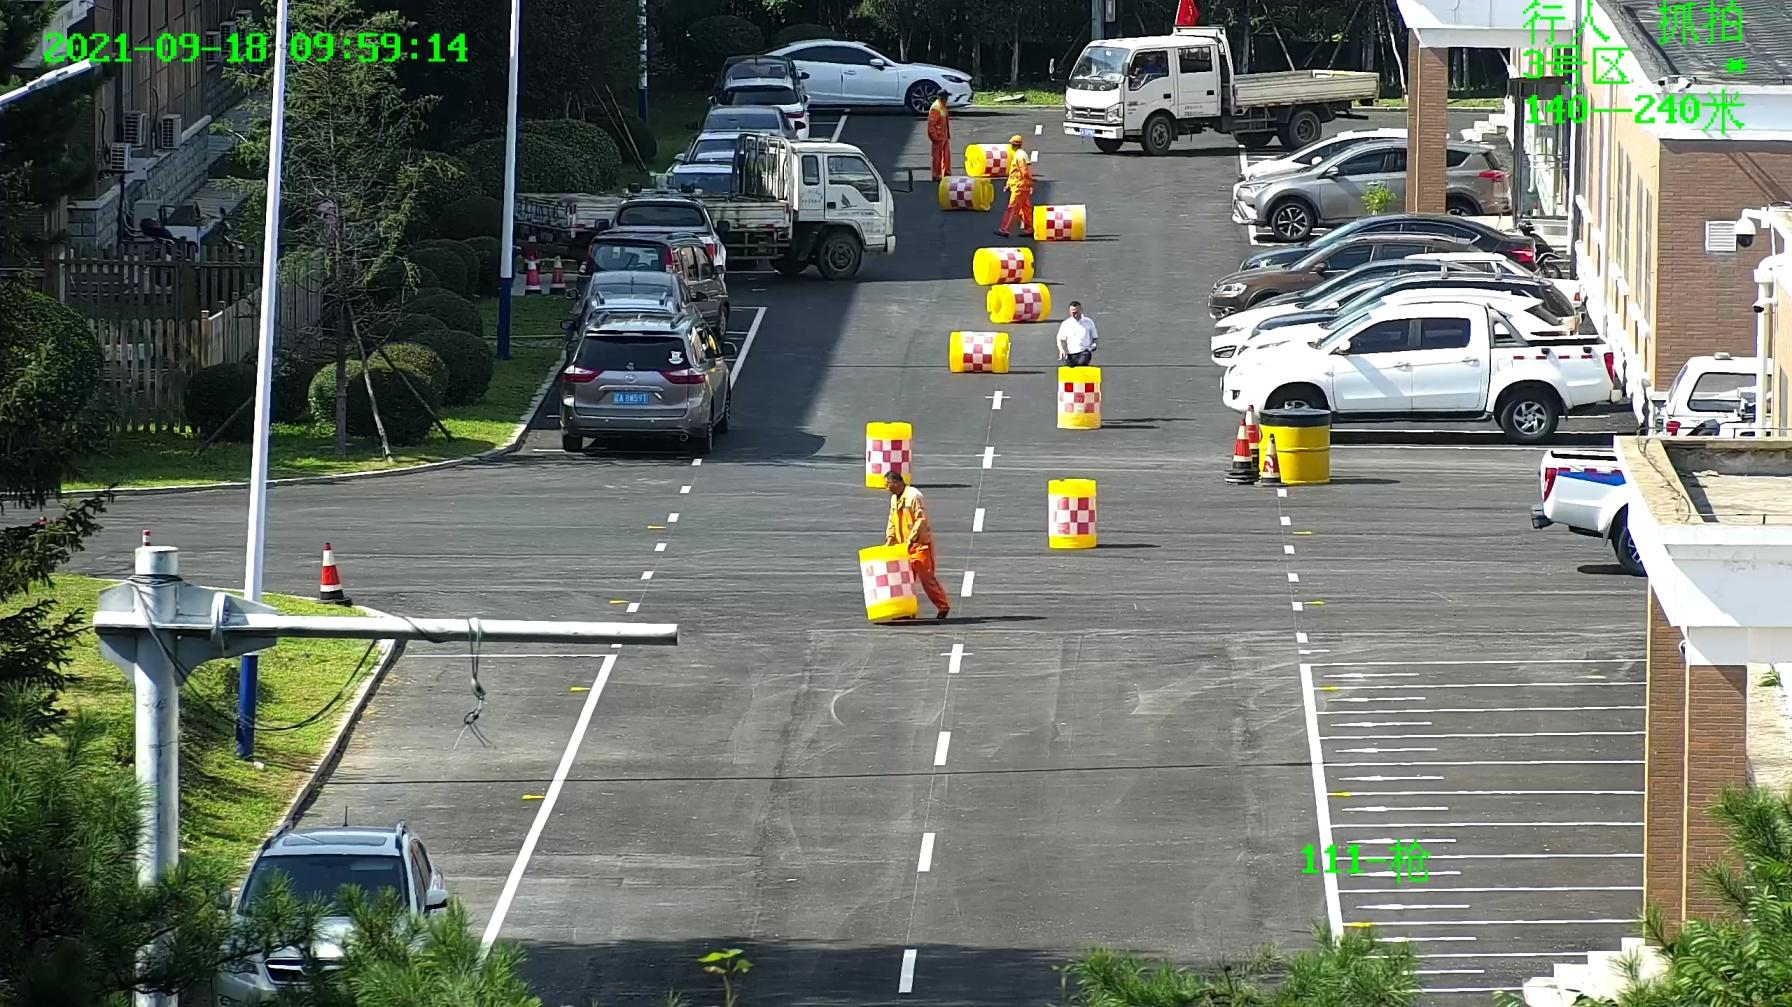cone_barrel: (857, 539, 918, 620), (1046, 480, 1094, 550), (864, 422, 911, 492), (946, 327, 1010, 375), (983, 279, 1052, 321), (1055, 367, 1100, 428), (971, 244, 1036, 286), (935, 172, 994, 213), (1030, 203, 1087, 241), (961, 140, 1017, 176)
